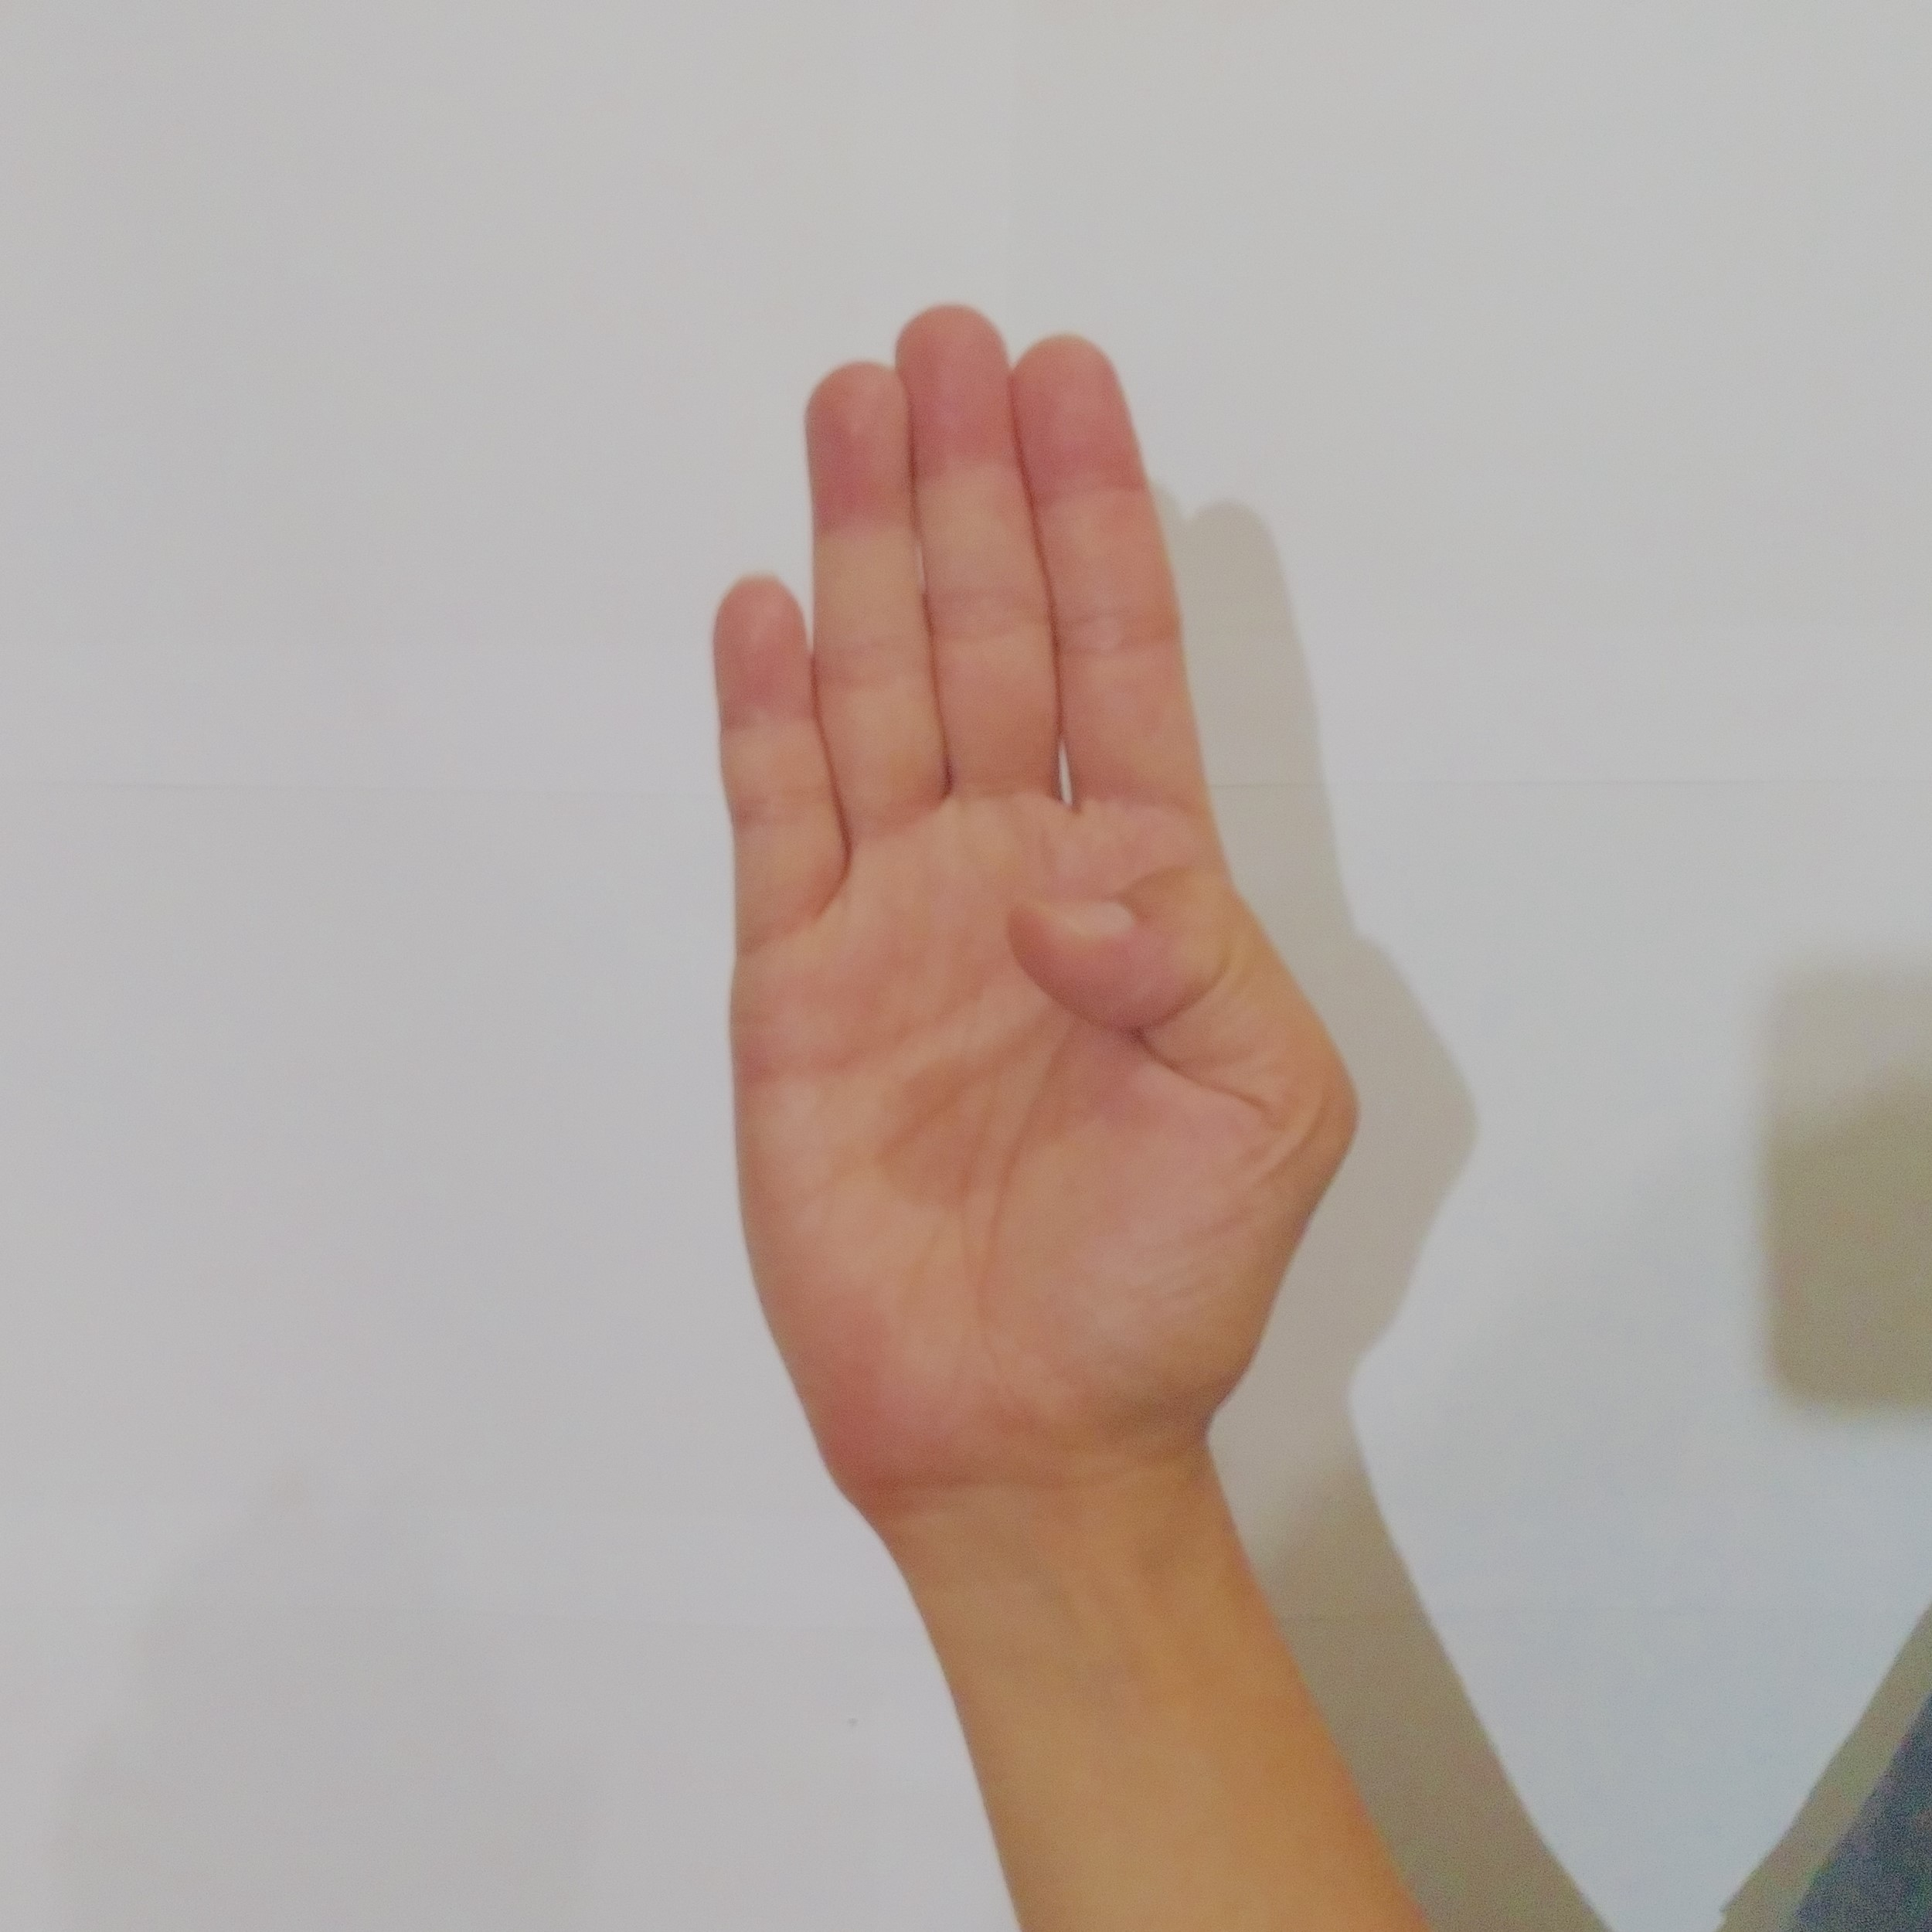B: (685, 278, 1380, 1491)
